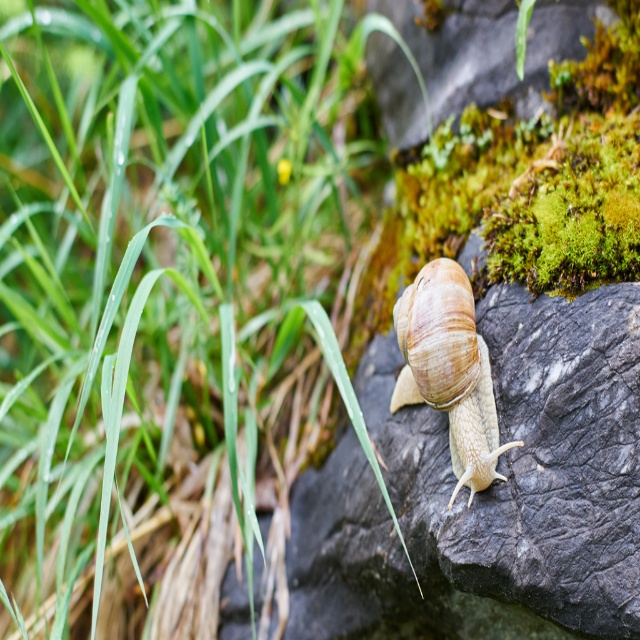Snail: (390, 256, 526, 515)
